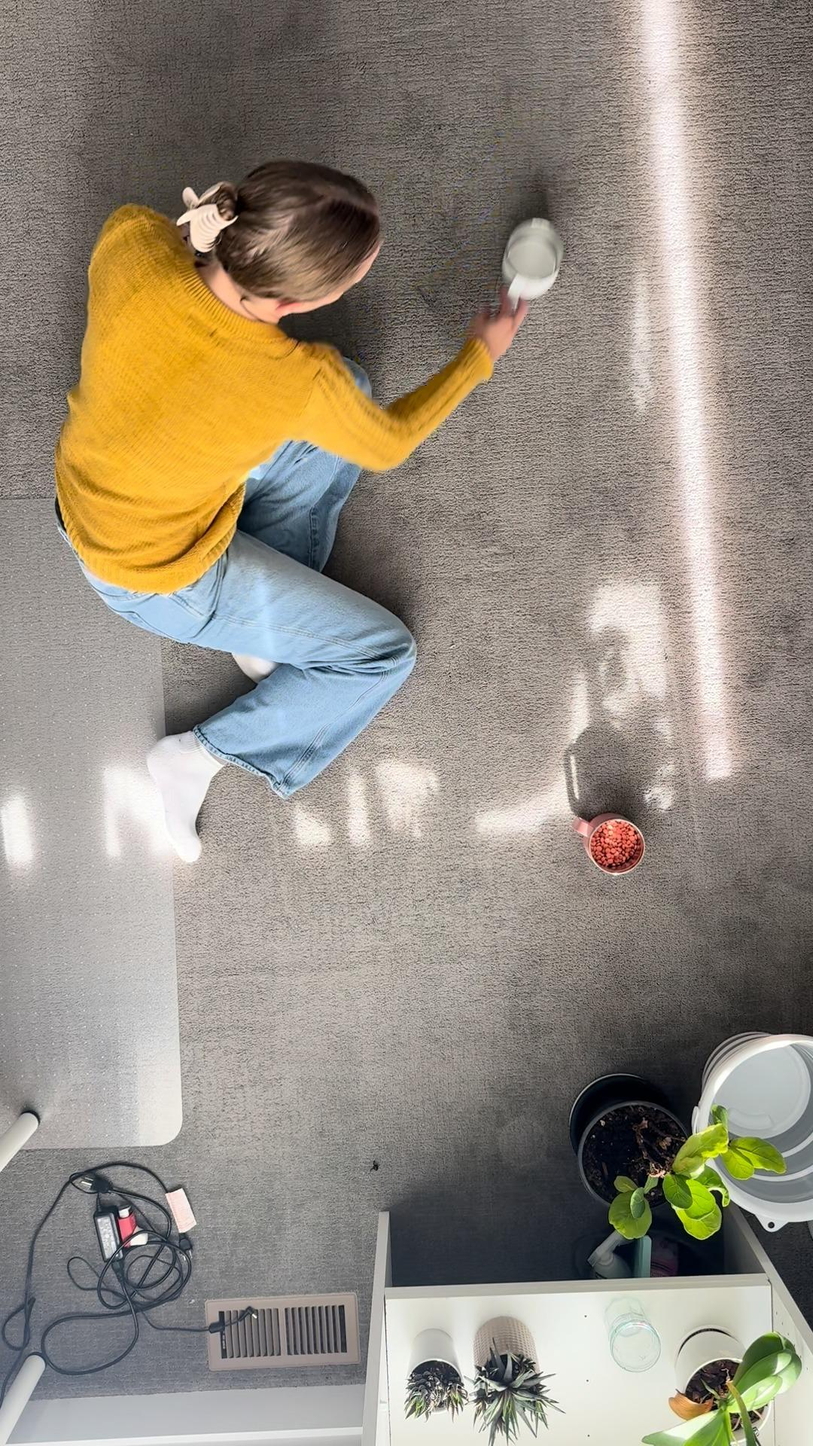IBC: (502, 206, 575, 307), (570, 803, 650, 880)
